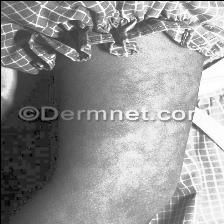Toxin: (58, 192, 128, 222), (146, 74, 186, 99)
